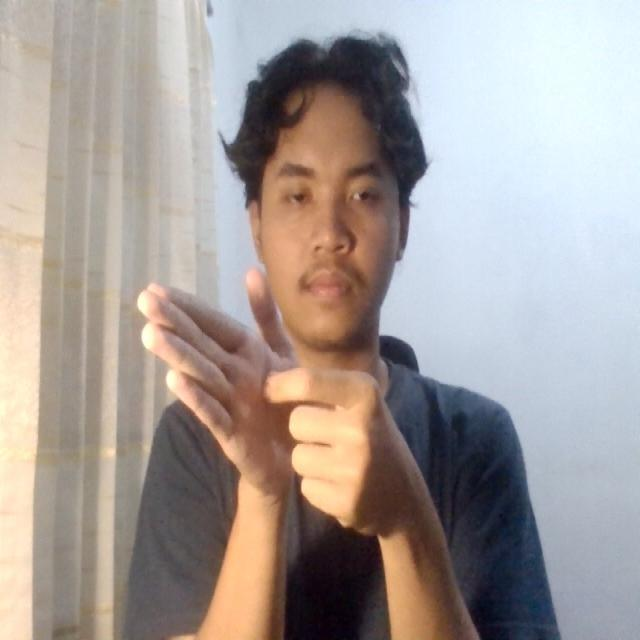L: (121, 248, 414, 541)
